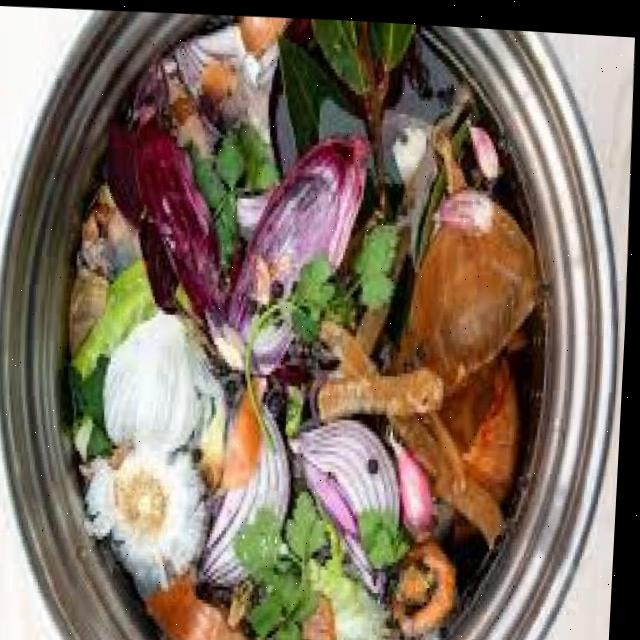Wet: (17, 2, 575, 640)
